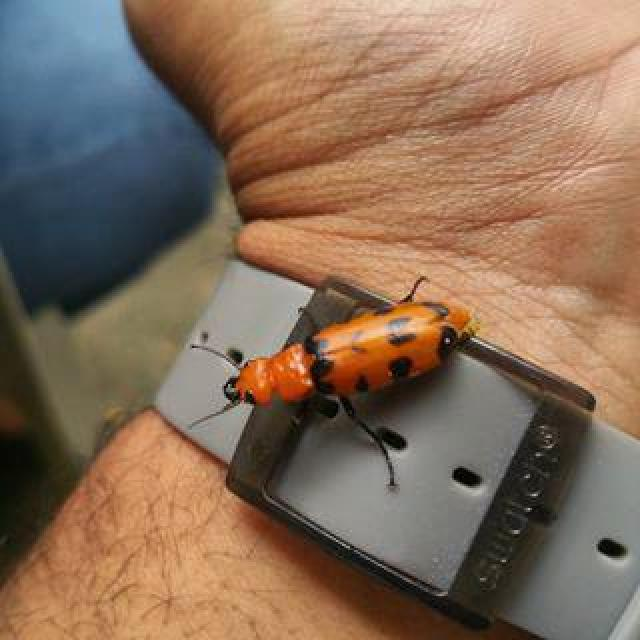BlisterBeetle-Adult-: (174, 272, 478, 473)
